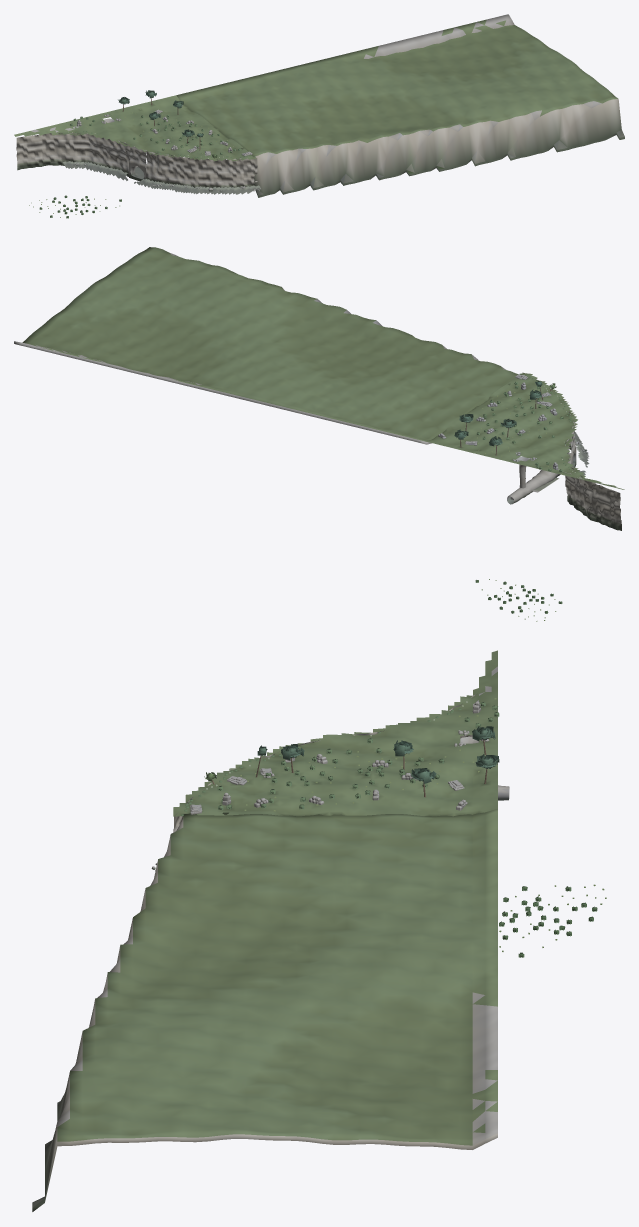
The model's file is cave.glb.
The picture shows the model from 3 angles, top to bottom: view 1: azimuth 30°, elevation 25°; view 2: azimuth 150°, elevation 25°; view 3: azimuth 270°, elevation 25°; orthographic projection. The views are drawn at different scales.
Visible parts, largest first — view 1: far_headland, east_headland, east_cliff_b, east_cliff_a, cliff_rubble; view 2: far_headland, east_headland, east_cliff_b, smugglers_cave; view 3: far_headland, east_headland.
Boxes of the visible parts, box(x1,y1,x2,y2) form: far_headland: box(176, 14, 624, 197); east_headland: box(14, 95, 256, 161); east_cliff_b: box(16, 132, 130, 176); east_cliff_a: box(146, 151, 257, 187); cliff_rubble: box(63, 161, 260, 194); far_headland: box(14, 247, 521, 444); east_headland: box(424, 373, 624, 489); east_cliff_b: box(565, 439, 621, 530); smugglers_cave: box(507, 452, 575, 504); far_headland: box(32, 809, 497, 1211); east_headland: box(173, 650, 497, 816).
Bounding box in the file's own units: 458 × 99.14 × 230.
